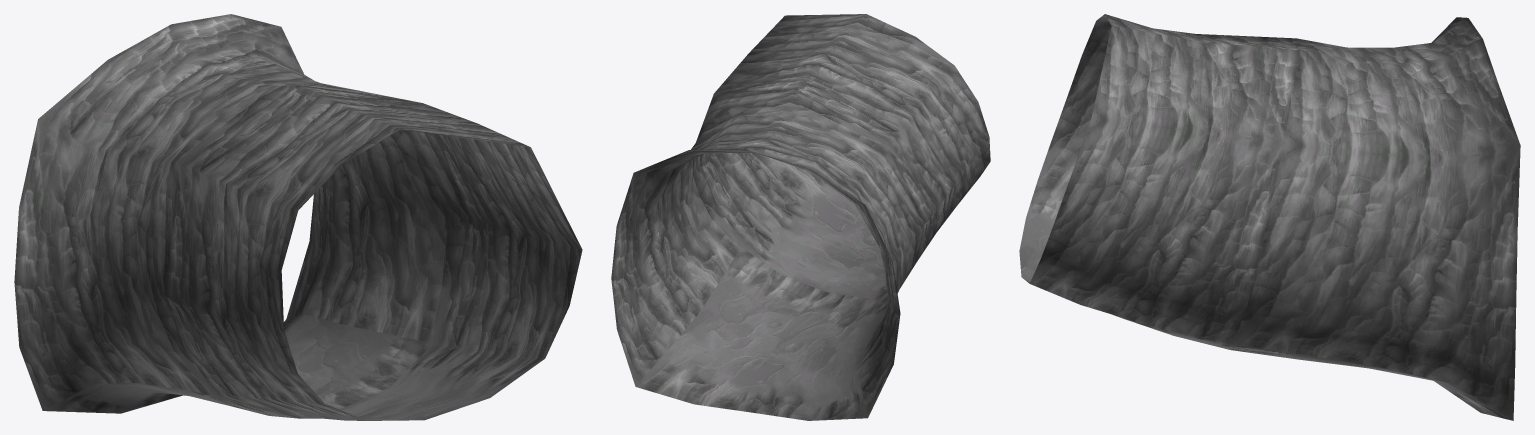
File: SWORDLIGHT20_PS-AREA03_17.fbx
3 renders of one model, left to right at view 1: azimuth 30°, elevation 25°; view 2: azimuth 150°, elevation 25°; view 3: azimuth 270°, elevation 25°, orthographic. The views are drawn at different scales.
Visible parts, largest first — view 1: SWORDLIGHT20_PS-AREA03_17; view 2: SWORDLIGHT20_PS-AREA03_17; view 3: SWORDLIGHT20_PS-AREA03_17.
Part boxes in pixels (box(x1,y1,x2,y2)): SWORDLIGHT20_PS-AREA03_17: box(14, 14, 582, 420); SWORDLIGHT20_PS-AREA03_17: box(611, 14, 990, 420); SWORDLIGHT20_PS-AREA03_17: box(1019, 14, 1520, 420).
Size of the model in its own units: 98840 by 100842 by 123059.
3 materials, 3 textured.
